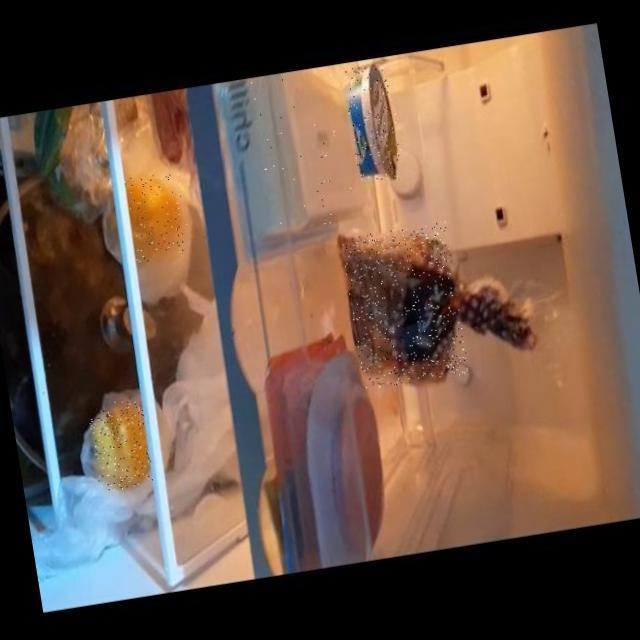Queso: (247, 67, 360, 243)
Yogur: (342, 63, 405, 183)
